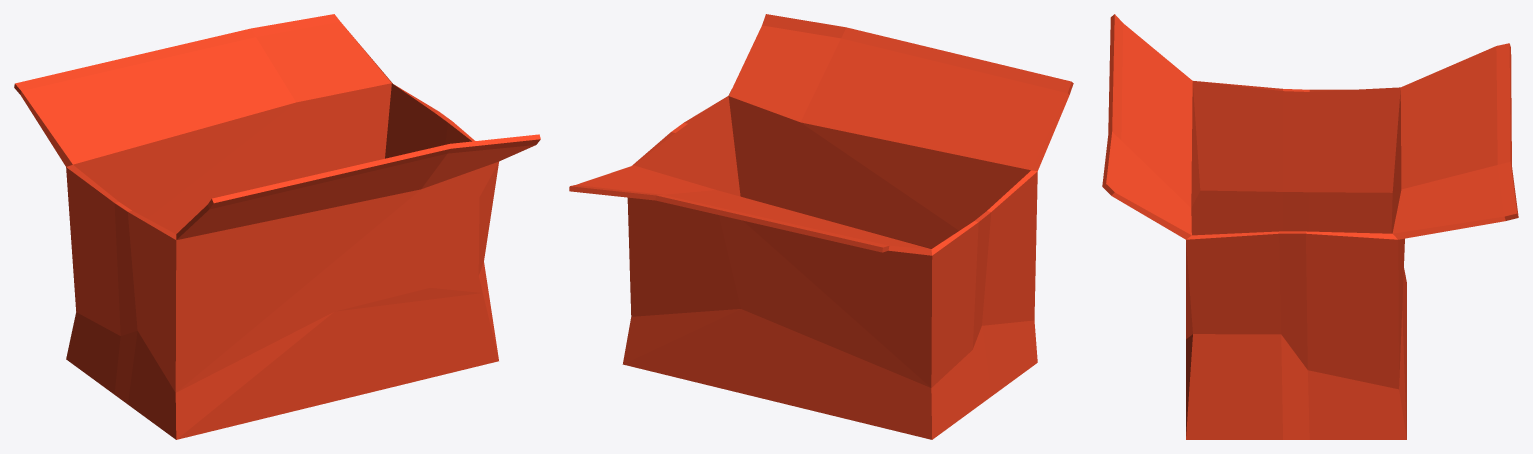
File: SM_Box_B_Open_City.fbx
The picture shows the model from 3 angles, left to right: view 1: azimuth 30°, elevation 25°; view 2: azimuth 150°, elevation 25°; view 3: azimuth 270°, elevation 25°; orthographic projection. The views are drawn at different scales.
Visible parts, largest first — view 1: SM_Box_B_Open_City; view 2: SM_Box_B_Open_City; view 3: SM_Box_B_Open_City.
Boxes of the visible parts, box(x1,y1,x2,y2) form: SM_Box_B_Open_City: box(14, 14, 540, 439); SM_Box_B_Open_City: box(569, 14, 1073, 439); SM_Box_B_Open_City: box(1102, 14, 1518, 439).
Size of the model in its own units: 0.6949 by 0.5489 by 0.773.
